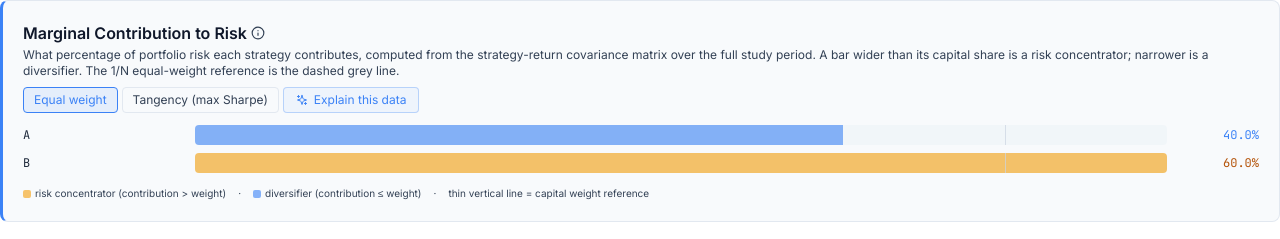
Test: RiskContributionBar — equal-weight + tangency toggle › toggle switches to tangency view when optimizer converged
Expected: the element with test id "risk-contribution-row-A" shows "40.0%", [1223,127,1259,143]
Click the button with test id "risk-contribution-scheme-tangency".
click(200, 100)  # box [122,87,279,113]
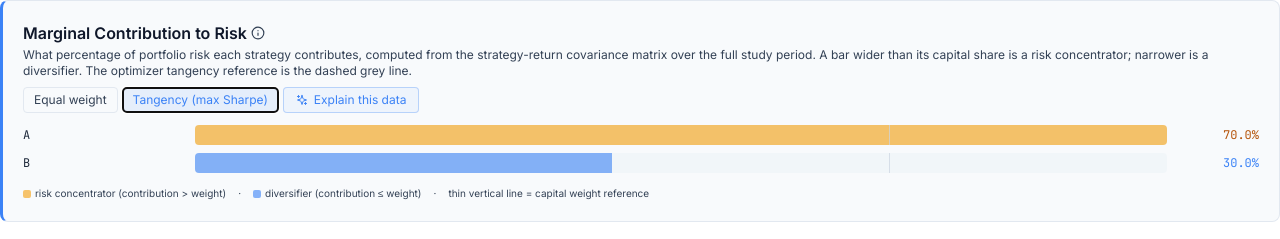
Now the element with test id "risk-contribution-row-A" shows "70.0%", box [1223,127,1259,143]
